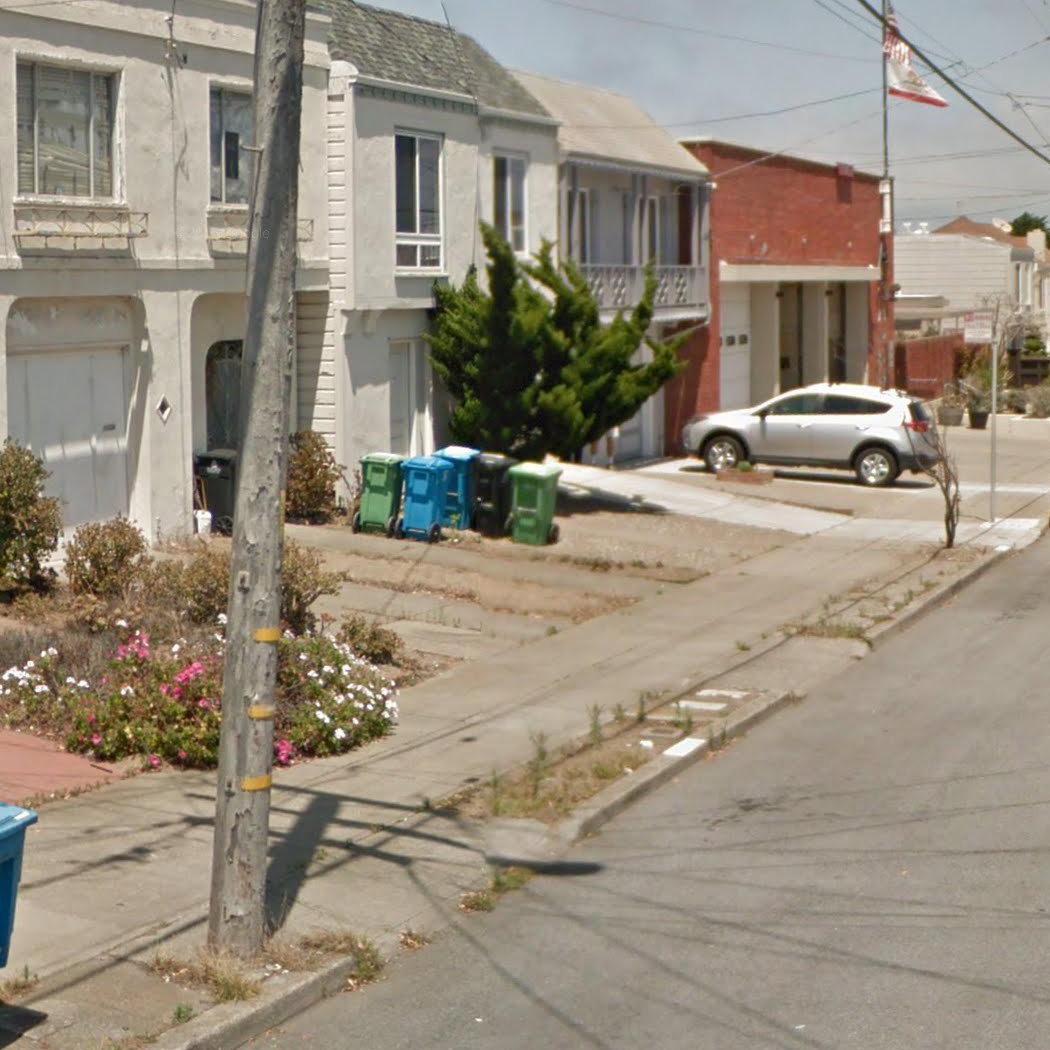No Parking: (959, 311, 996, 344)
